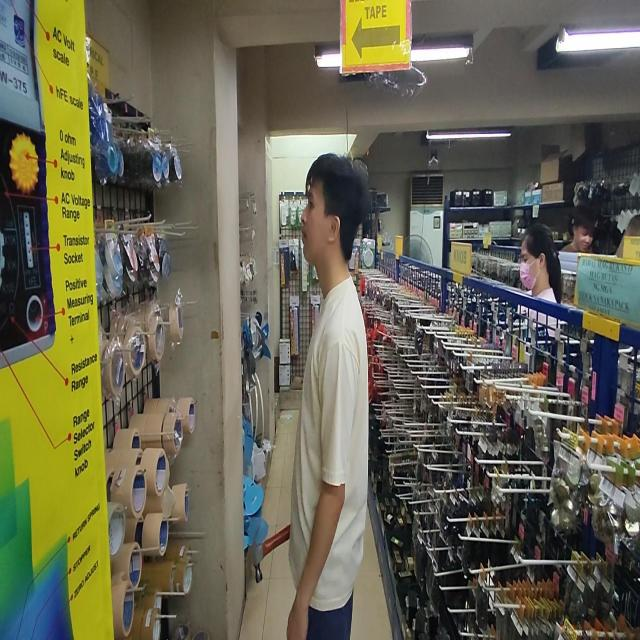hammer: (250, 521, 291, 584)
